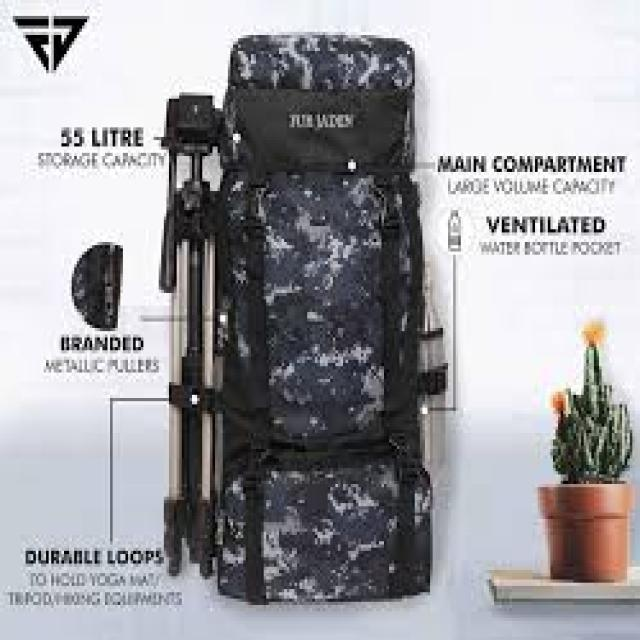backpack: (203, 24, 439, 608)
